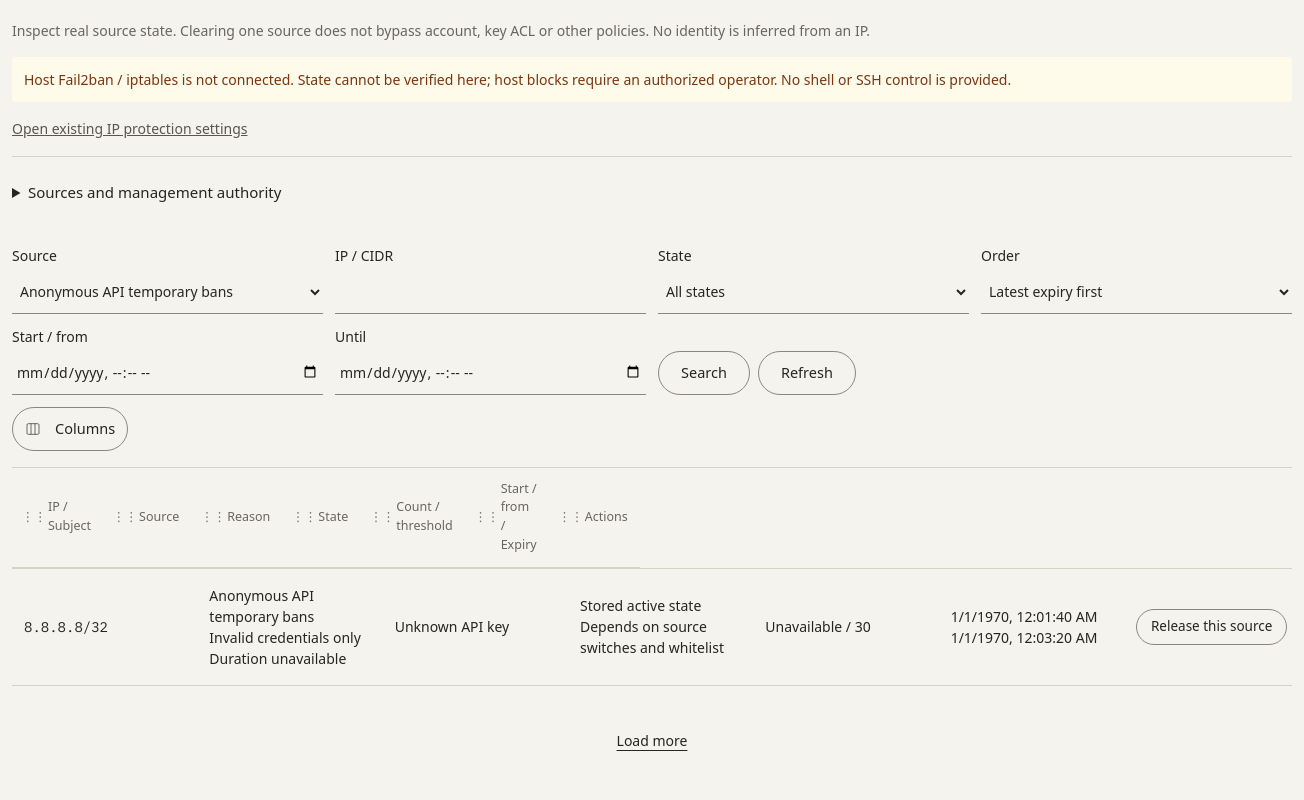
it: IP audit › clearly reports a source that is still present after recovery
Click the button with test id "release-source" at {"x": 1212, "y": 626}, box [1136,608,1287,644]
(page scrolled)
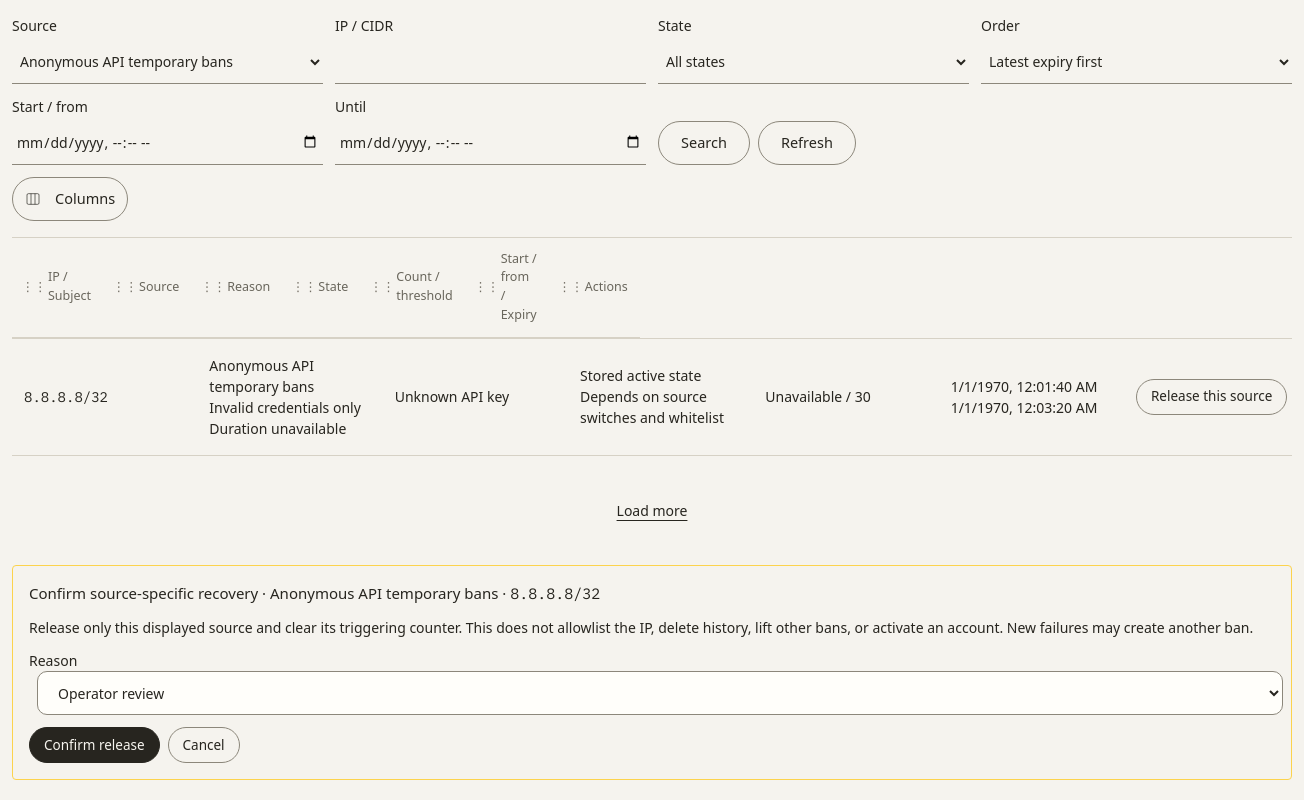
Click the button with test id "release-confirm" at {"x": 94, "y": 745}, box [29,727,160,763]
(page scrolled)
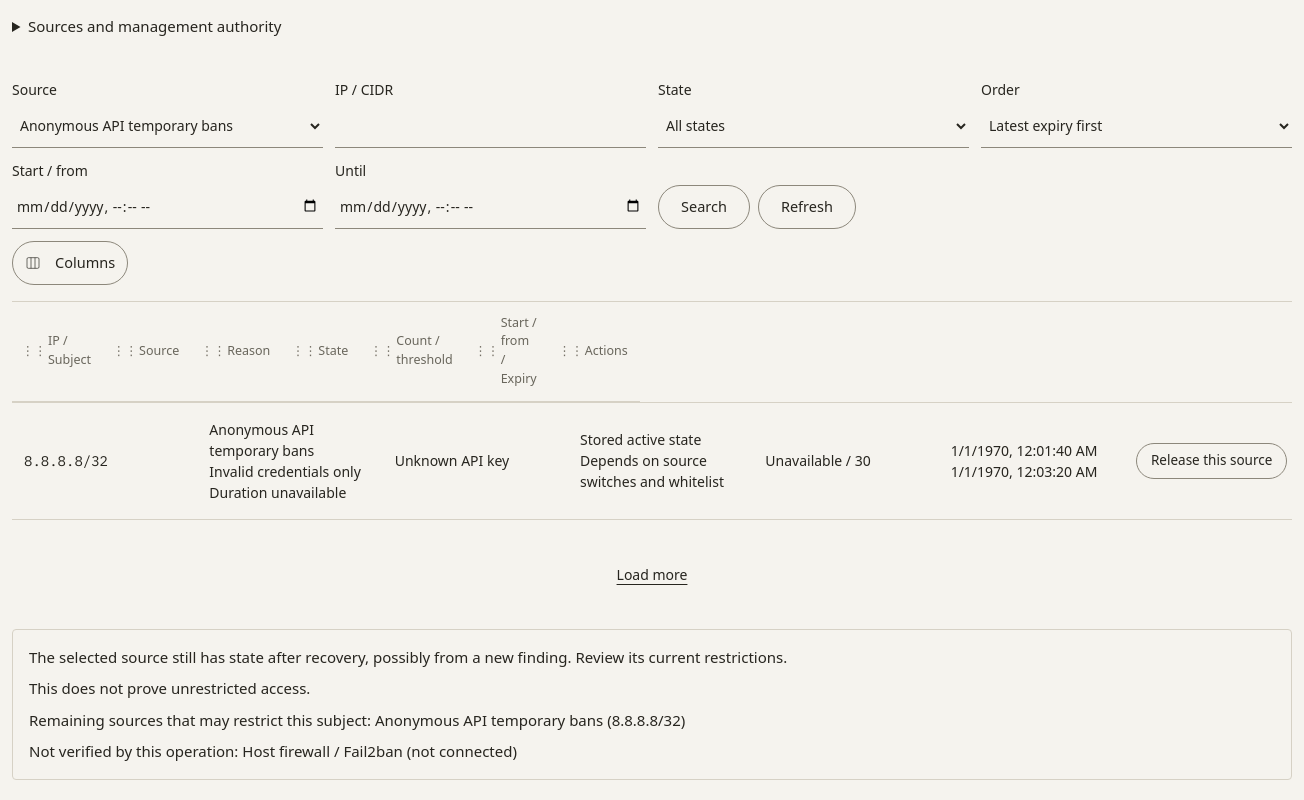
Expected: the message with test id "release-outcome" shows "The selected source still has state after recovery, possibly from a new finding. Review its current restrictions.", [29,647,787,667]
